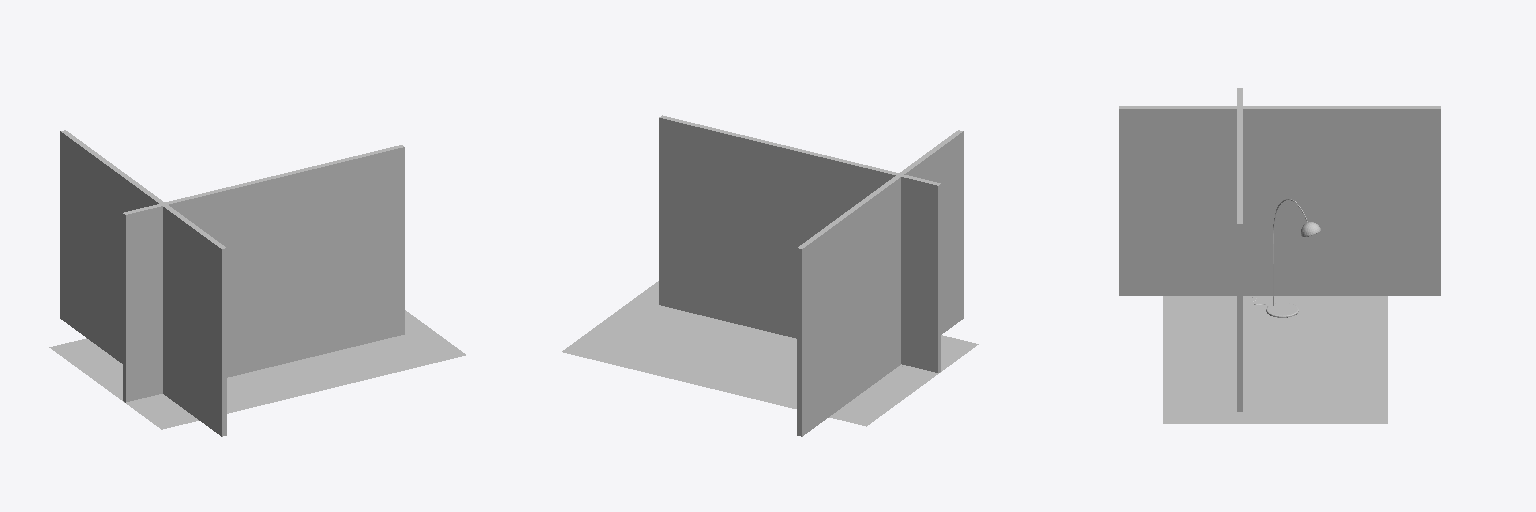
File: floorlamp.obj
3 views of the same model, side by side, from view 1: azimuth 30°, elevation 25°; view 2: azimuth 150°, elevation 25°; view 3: azimuth 270°, elevation 25° (orthographic).
Visible parts, largest first — view 1: Box001, Box002, Plane001; view 2: Box001, Box002, Plane001; view 3: Box002, Plane001, Box001.
Part boxes in pixels (x1,y1,x2,y2): Box001: (123, 145, 404, 402); Box002: (60, 130, 226, 436); Plane001: (49, 310, 465, 429); Box001: (659, 115, 940, 372); Box002: (797, 130, 963, 436); Plane001: (562, 281, 978, 426); Box002: (1119, 106, 1440, 295); Plane001: (1163, 296, 1387, 423); Box001: (1237, 88, 1242, 411).
Size of the model in its own units: 470 by 276 by 430.